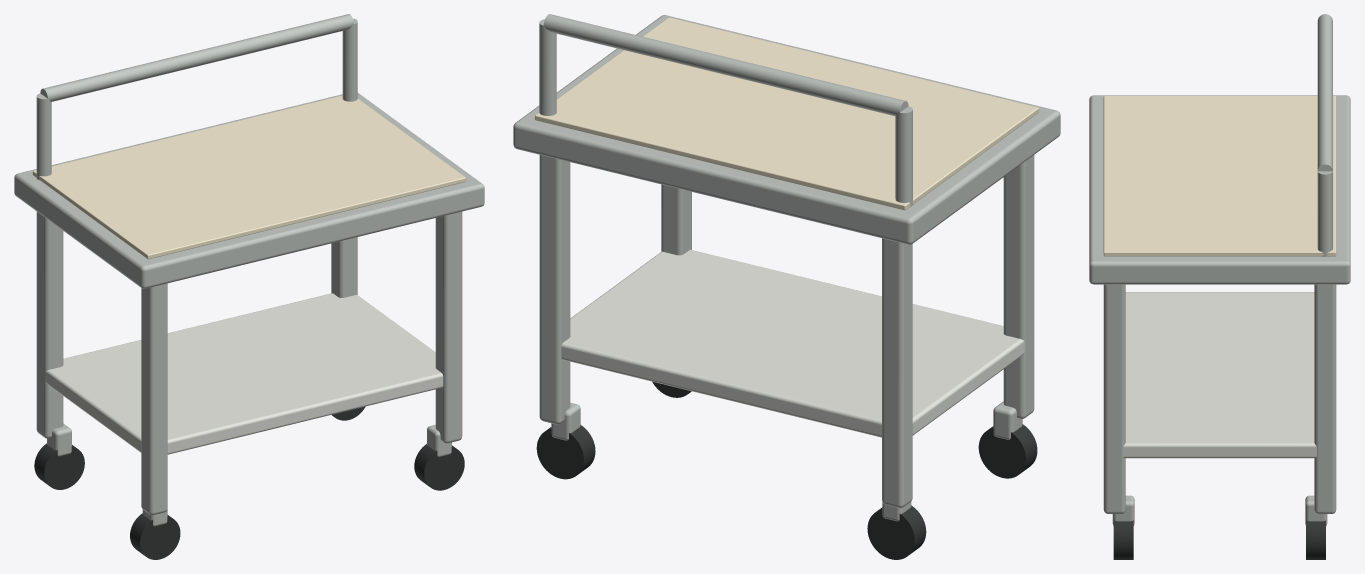
File: spacecraft-thermal-test-chamber-cleanroom-transport-ca-0fe3d228__32063.glb
3 renders of one model, left to right at view 1: azimuth 30°, elevation 25°; view 2: azimuth 150°, elevation 25°; view 3: azimuth 270°, elevation 25°, orthographic. The views are drawn at different scales.
Visible parts, largest first — view 1: cleanroom-transport-cart; view 2: cleanroom-transport-cart; view 3: cleanroom-transport-cart.
Part boxes in pixels (<box>): cleanroom-transport-cart: <box>14,14,484,559</box>; cleanroom-transport-cart: <box>513,14,1060,559</box>; cleanroom-transport-cart: <box>1089,14,1350,559</box>.
Size of the model in its own units: 1.1 by 1.21 by 0.72.
